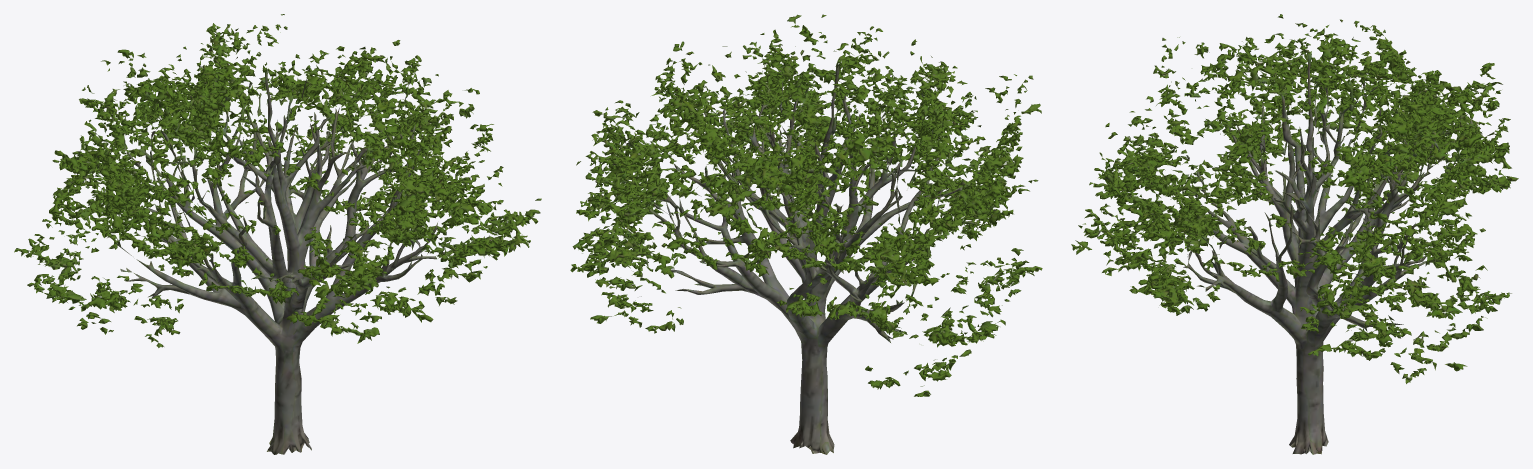
The model's file is zelkova.0.glb.
The picture shows the model from 3 angles, left to right: view 1: azimuth 30°, elevation 25°; view 2: azimuth 150°, elevation 25°; view 3: azimuth 270°, elevation 25°; orthographic projection. The views are drawn at different scales.
Parts seen in each view (by area): view 1: geometry_0; view 2: geometry_0; view 3: geometry_0.
Part boxes in pixels (bbox=[...]): geometry_0: bbox=[14, 14, 541, 454]; geometry_0: bbox=[570, 14, 1042, 454]; geometry_0: bbox=[1071, 14, 1518, 454].
Bounding box in the file's own units: 0.9722 × 0.9577 × 0.9222.
Materials: 1 (1 with a texture image).
